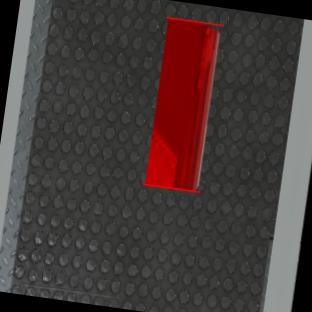objects: (143, 16, 223, 194)
